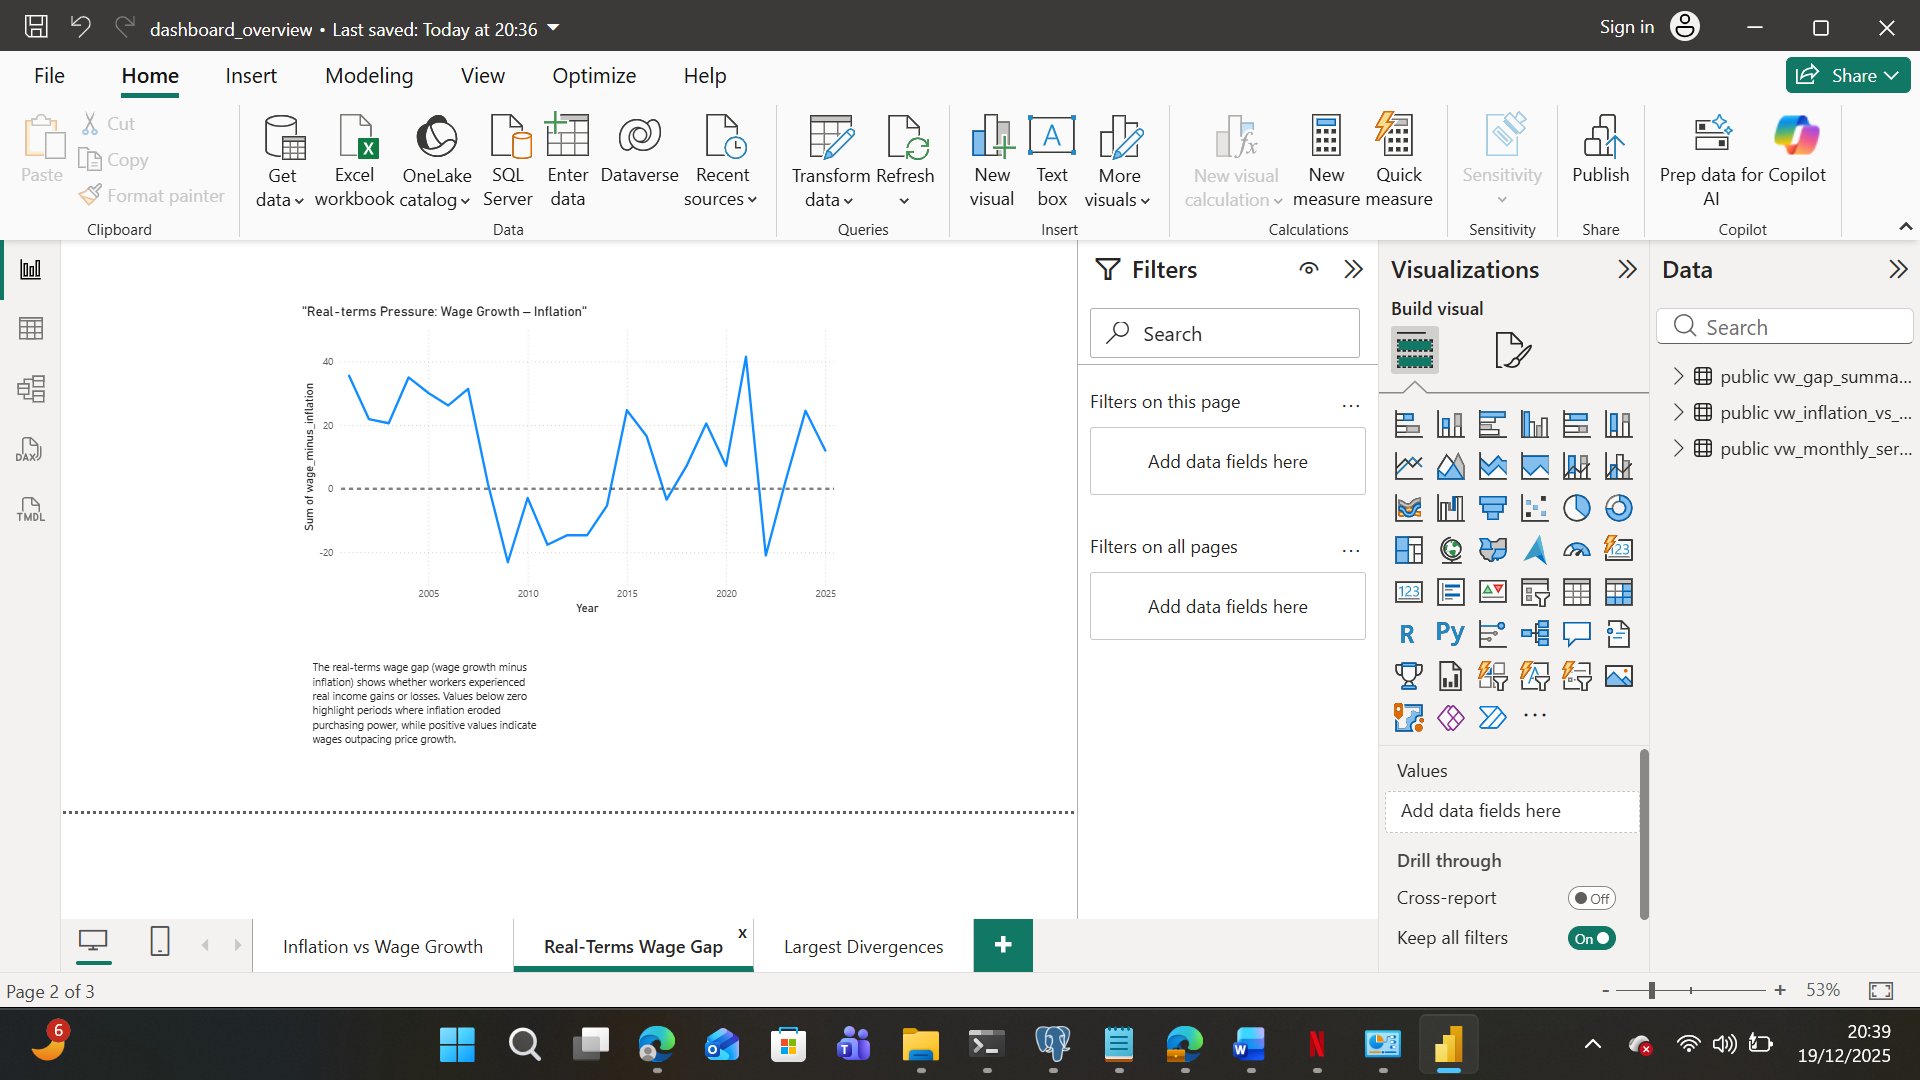

What the dashboard file says about the page in this screenshot:
{"tool":"powerbi","page":{"name":"Real-Terms Wage Gap","canvas":[1280,720],"ordinal":1},"visuals":[{"type":"lineChart","title":" \"Real-terms Pressure: Wage Growth – Inflation\"","fields":{"Category":["public vw_gap_summary.date_id.Variation.Date Hierarchy.Year","public vw_gap_summary.date_id.Variation.Date Hierarchy.Quarter","public vw_gap_summary.date_id.Variation.Date Hierarchy.Month","public vw_gap_summary.date_id.Variation.Date Hierarchy.Day"],"Y":["Sum(public vw_gap_summary.wage_minus_inflation)"]},"box":[298.6,79,682.1,396.9],"z":0},{"type":"textbox","box":[311.8,523.5,300.5,155],"z":1000}]}

Visuals, with their boxes on the page's 1280x720 design canvas (x1, y1, x2, y2). These are canvas units, not pixel positions in the 1920x1080 screenshot, which may show the page scaled, cropped or inside an application window:
" "Real-terms Pressure: Wage Growth – Inflation"" lineChart: locate(299, 79, 981, 476)
textbox: locate(312, 524, 612, 678)
